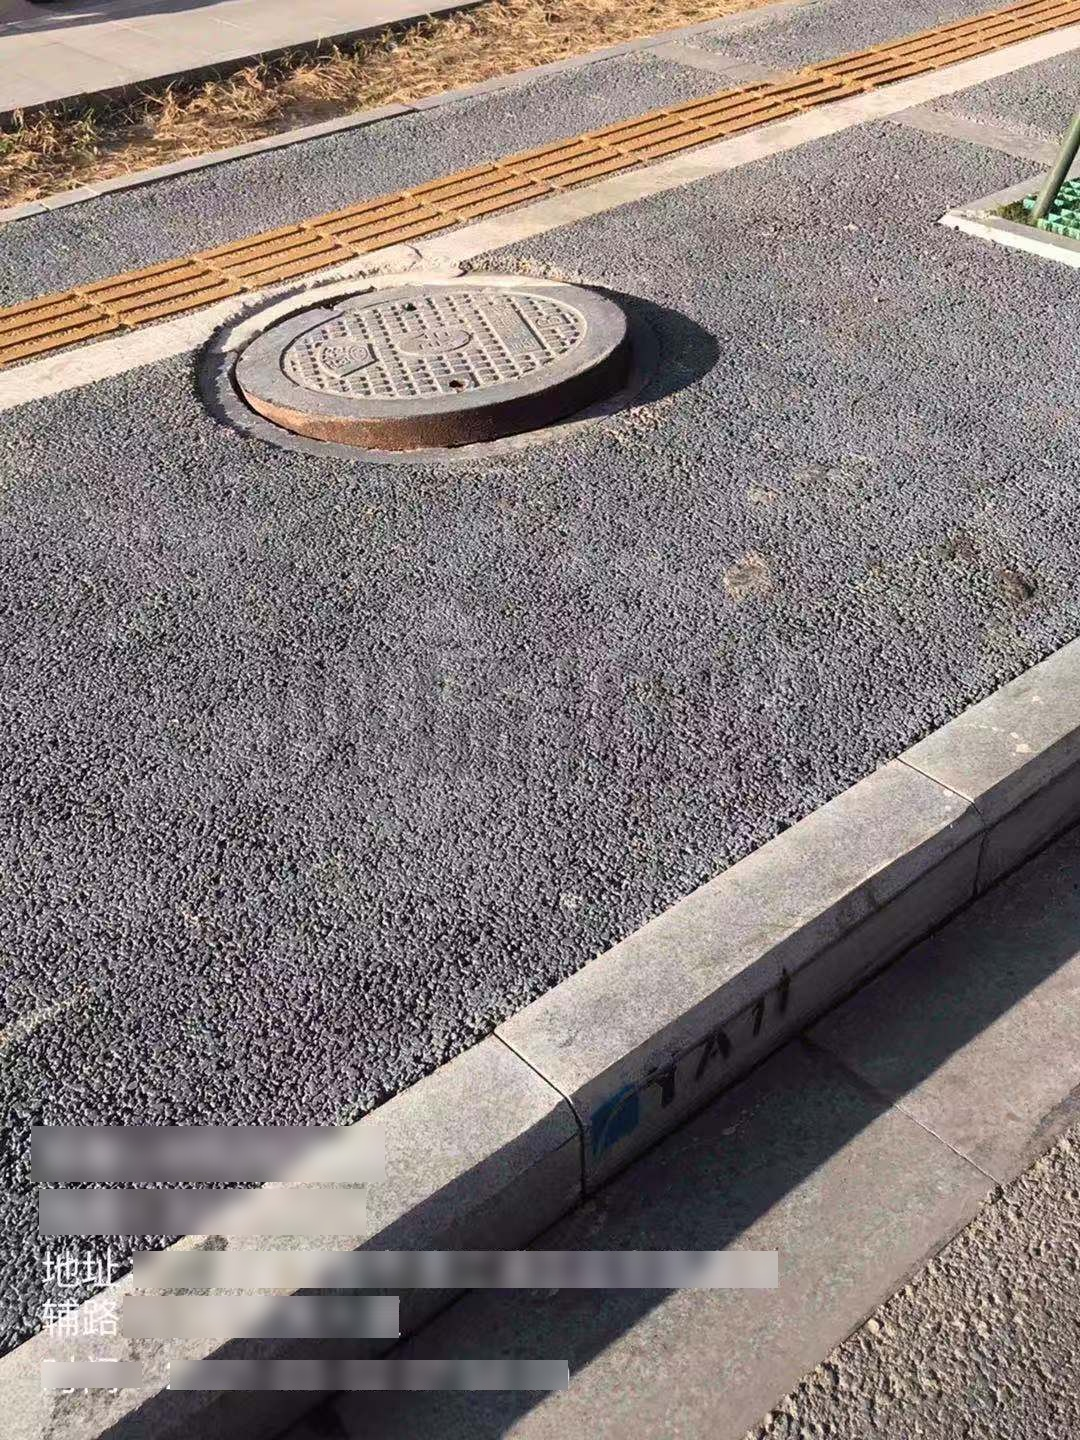uncovered: (200, 277, 627, 458)
